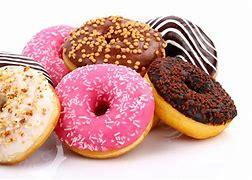donut: (62, 65, 152, 151), (150, 59, 238, 135), (0, 64, 53, 172), (60, 16, 161, 66), (169, 16, 221, 57)
